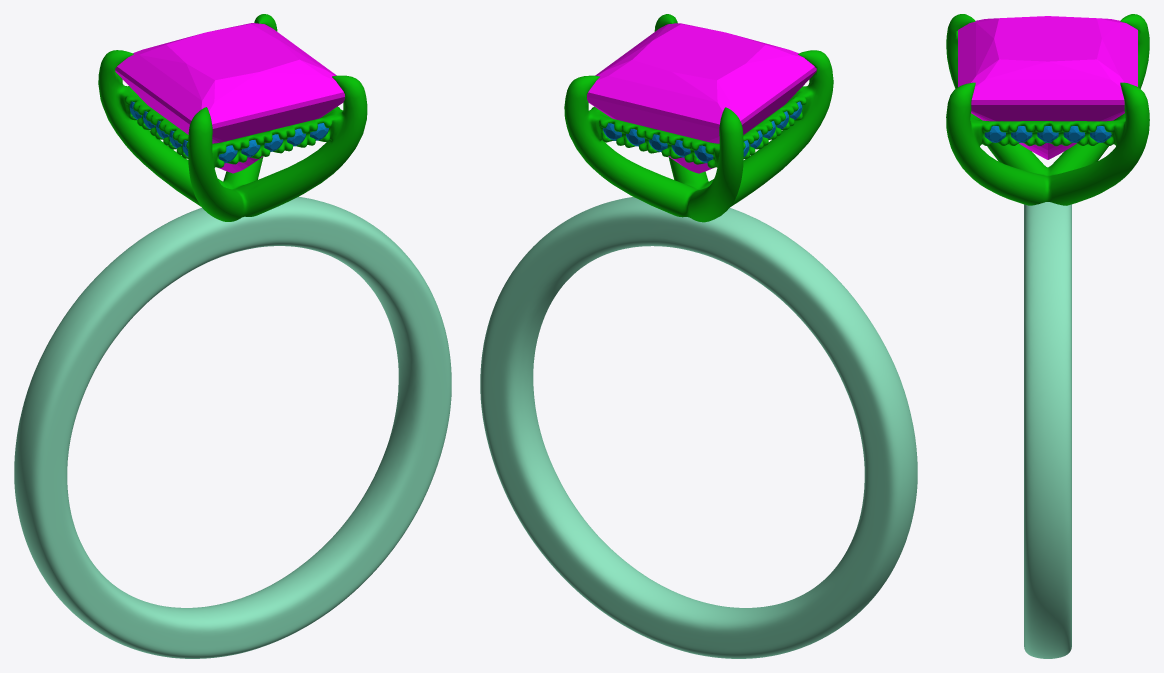
Rendered from BE1D327_PR_200ct_RENDER.glb.
3 renders of one model, left to right at view 1: azimuth 30°, elevation 25°; view 2: azimuth 150°, elevation 25°; view 3: azimuth 270°, elevation 25°, orthographic.
Parts seen in each view (by area): view 1: Metal 01, CS_Diamond_Princess, Metal 02; view 2: Metal 01, CS_Diamond_Princess, Metal 02; view 3: Metal 01, CS_Diamond_Princess, Metal 02.
Boxes of the visible parts, <box> form: Metal 01: <box>14,196,451,658</box>; CS_Diamond_Princess: <box>115,23,344,173</box>; Metal 02: <box>98,14,367,221</box>; Metal 01: <box>480,197,917,658</box>; CS_Diamond_Princess: <box>587,23,816,173</box>; Metal 02: <box>564,14,833,222</box>; Metal 01: <box>1024,202,1071,658</box>; CS_Diamond_Princess: <box>958,16,1137,159</box>; Metal 02: <box>946,14,1149,205</box>.
Bounding box in the file's own units: 20.5 × 27.5 × 8.5.
